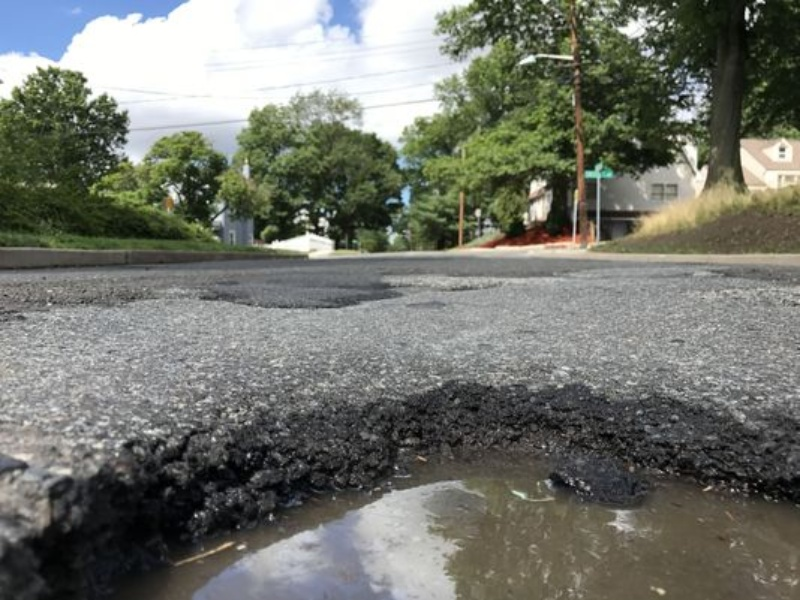pothole: (3, 380, 800, 598)
